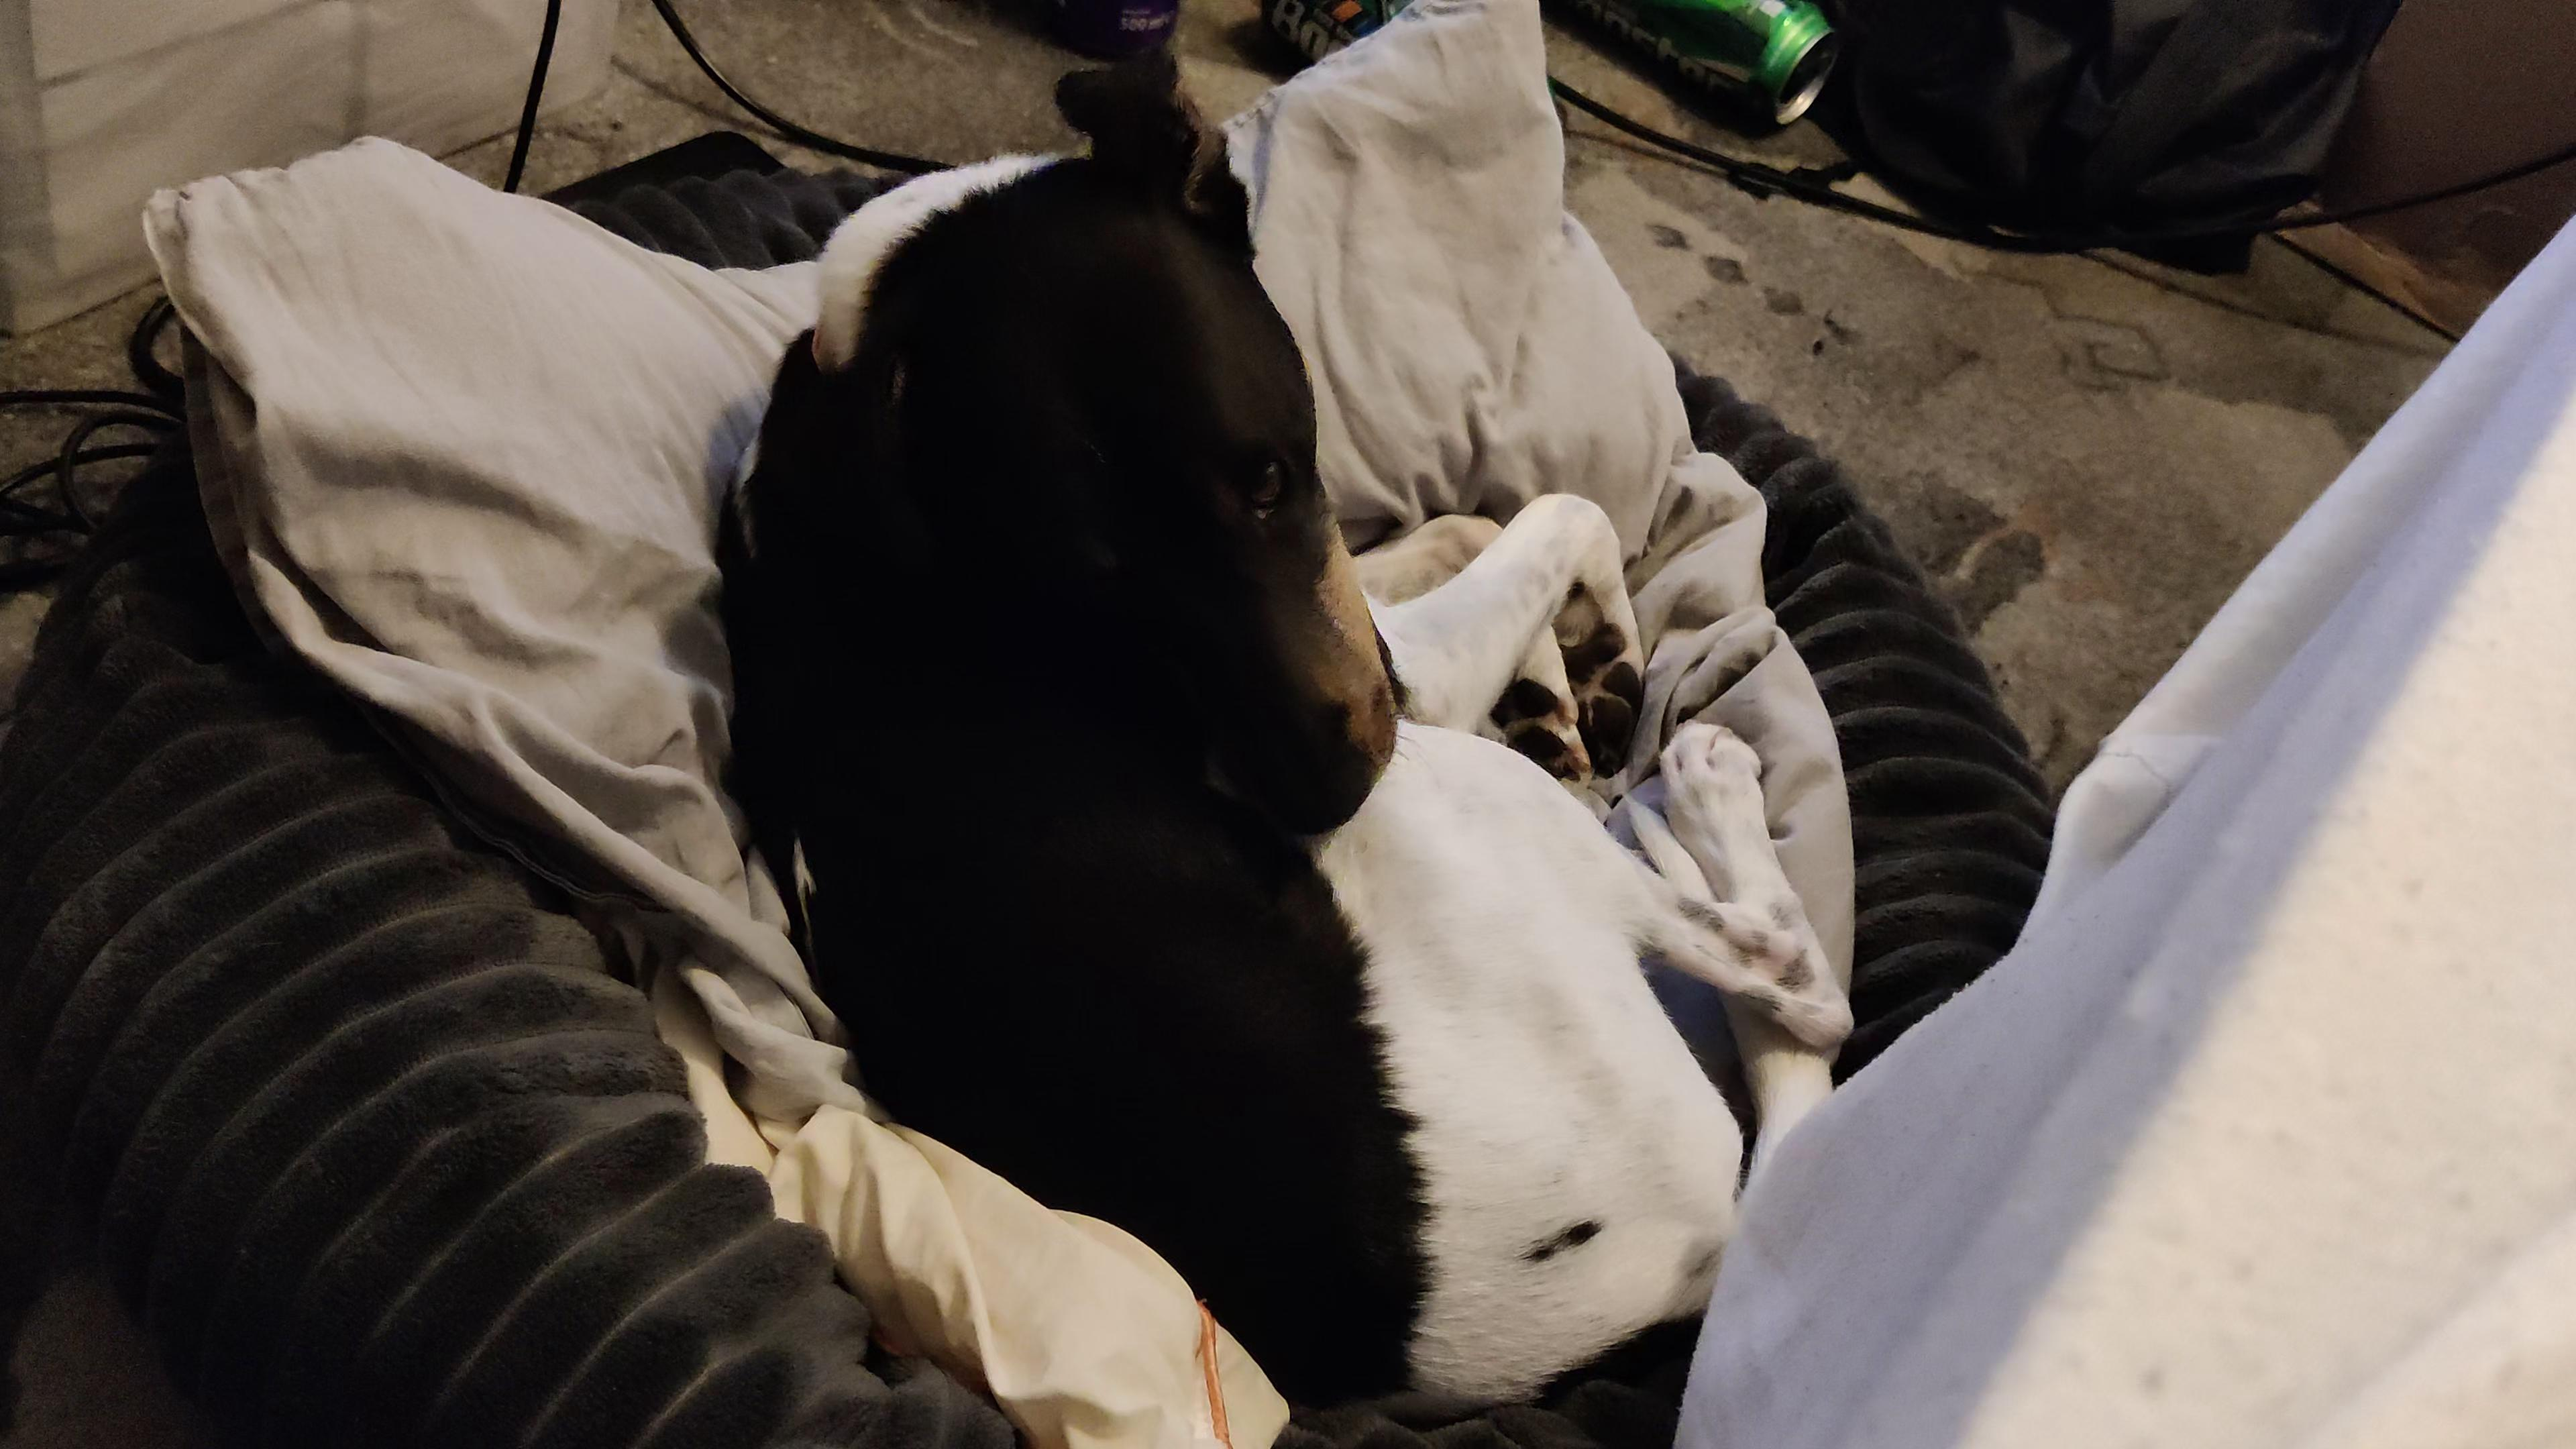Dog: (665, 35, 1895, 1440)
